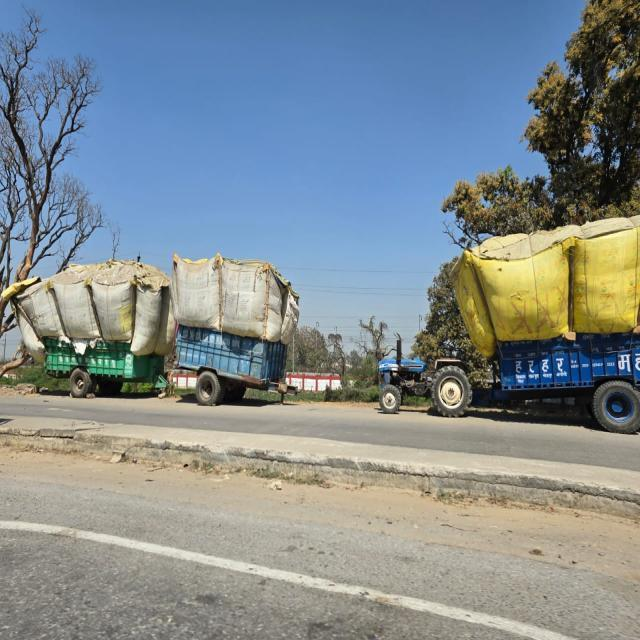covered: (383, 222, 640, 414), (16, 254, 290, 412)
